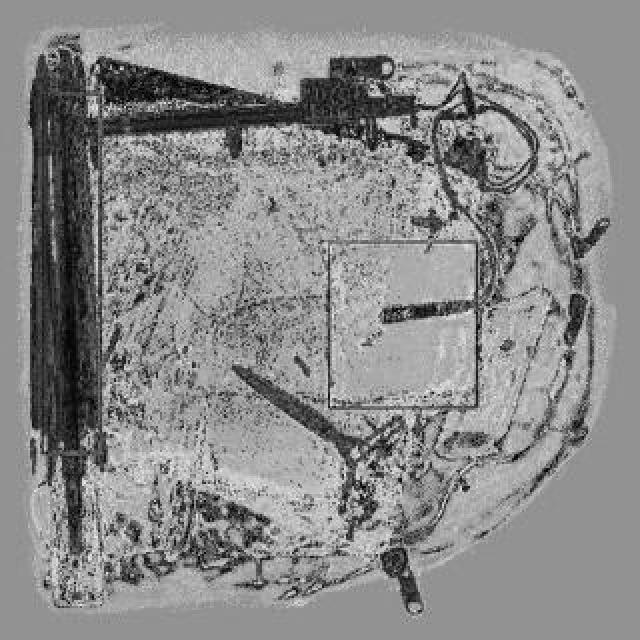knife: (222, 362, 406, 512)
